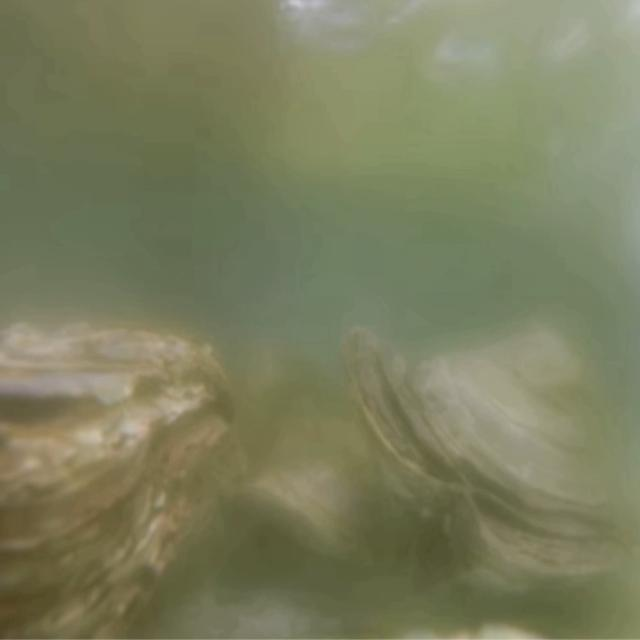Oyster-Closed: (340, 322, 638, 602), (1, 319, 255, 640)
Oyster-Indeterminate: (238, 415, 396, 566)
